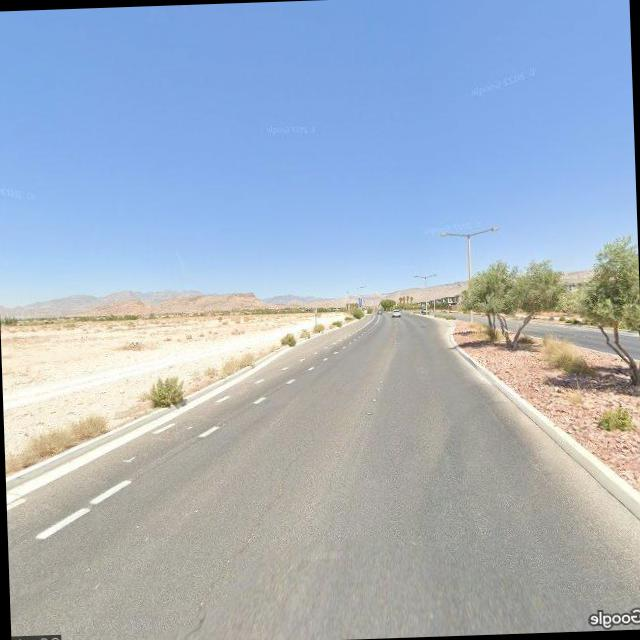pothole: (185, 438, 312, 632)
